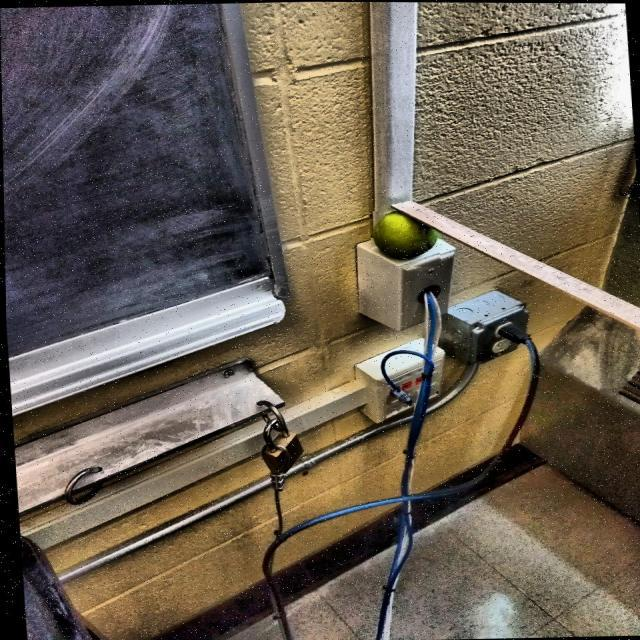tennis-ball: (368, 209, 442, 269)
